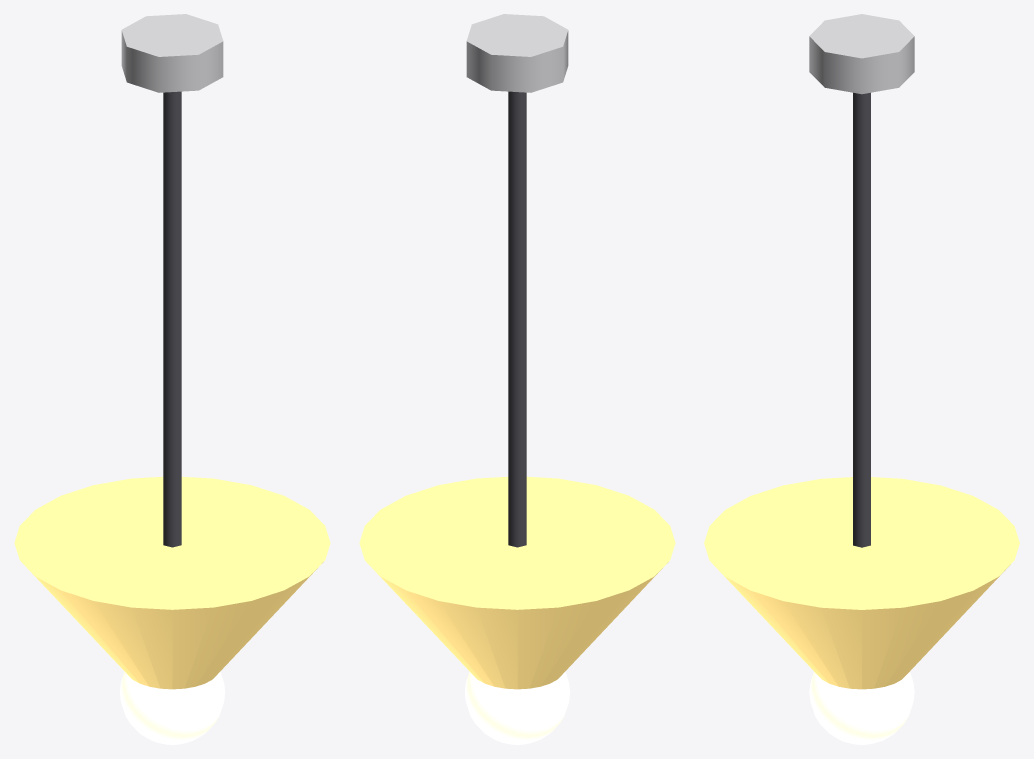
The model's file is ceiling_lamp.glb.
3 renders of one model, left to right at view 1: azimuth 30°, elevation 25°; view 2: azimuth 150°, elevation 25°; view 3: azimuth 270°, elevation 25°, orthographic.
Parts seen in each view (by area): view 1: shade, cord, mount, bulb; view 2: shade, cord, mount, bulb; view 3: shade, cord, mount, bulb.
Part boxes in pixels (bbox=[...]): shade: bbox=[14, 476, 330, 689]; cord: bbox=[163, 91, 181, 547]; mount: bbox=[121, 14, 223, 92]; bulb: bbox=[119, 671, 225, 744]; shade: bbox=[359, 476, 675, 689]; cord: bbox=[508, 91, 526, 547]; mount: bbox=[466, 14, 568, 92]; bulb: bbox=[464, 671, 570, 744]; shade: bbox=[704, 477, 1019, 689]; cord: bbox=[853, 92, 870, 547]; mount: bbox=[809, 14, 914, 94]; bulb: bbox=[809, 672, 914, 744].
Bounding box in the file's own units: 0.24 × 0.59 × 0.24.
